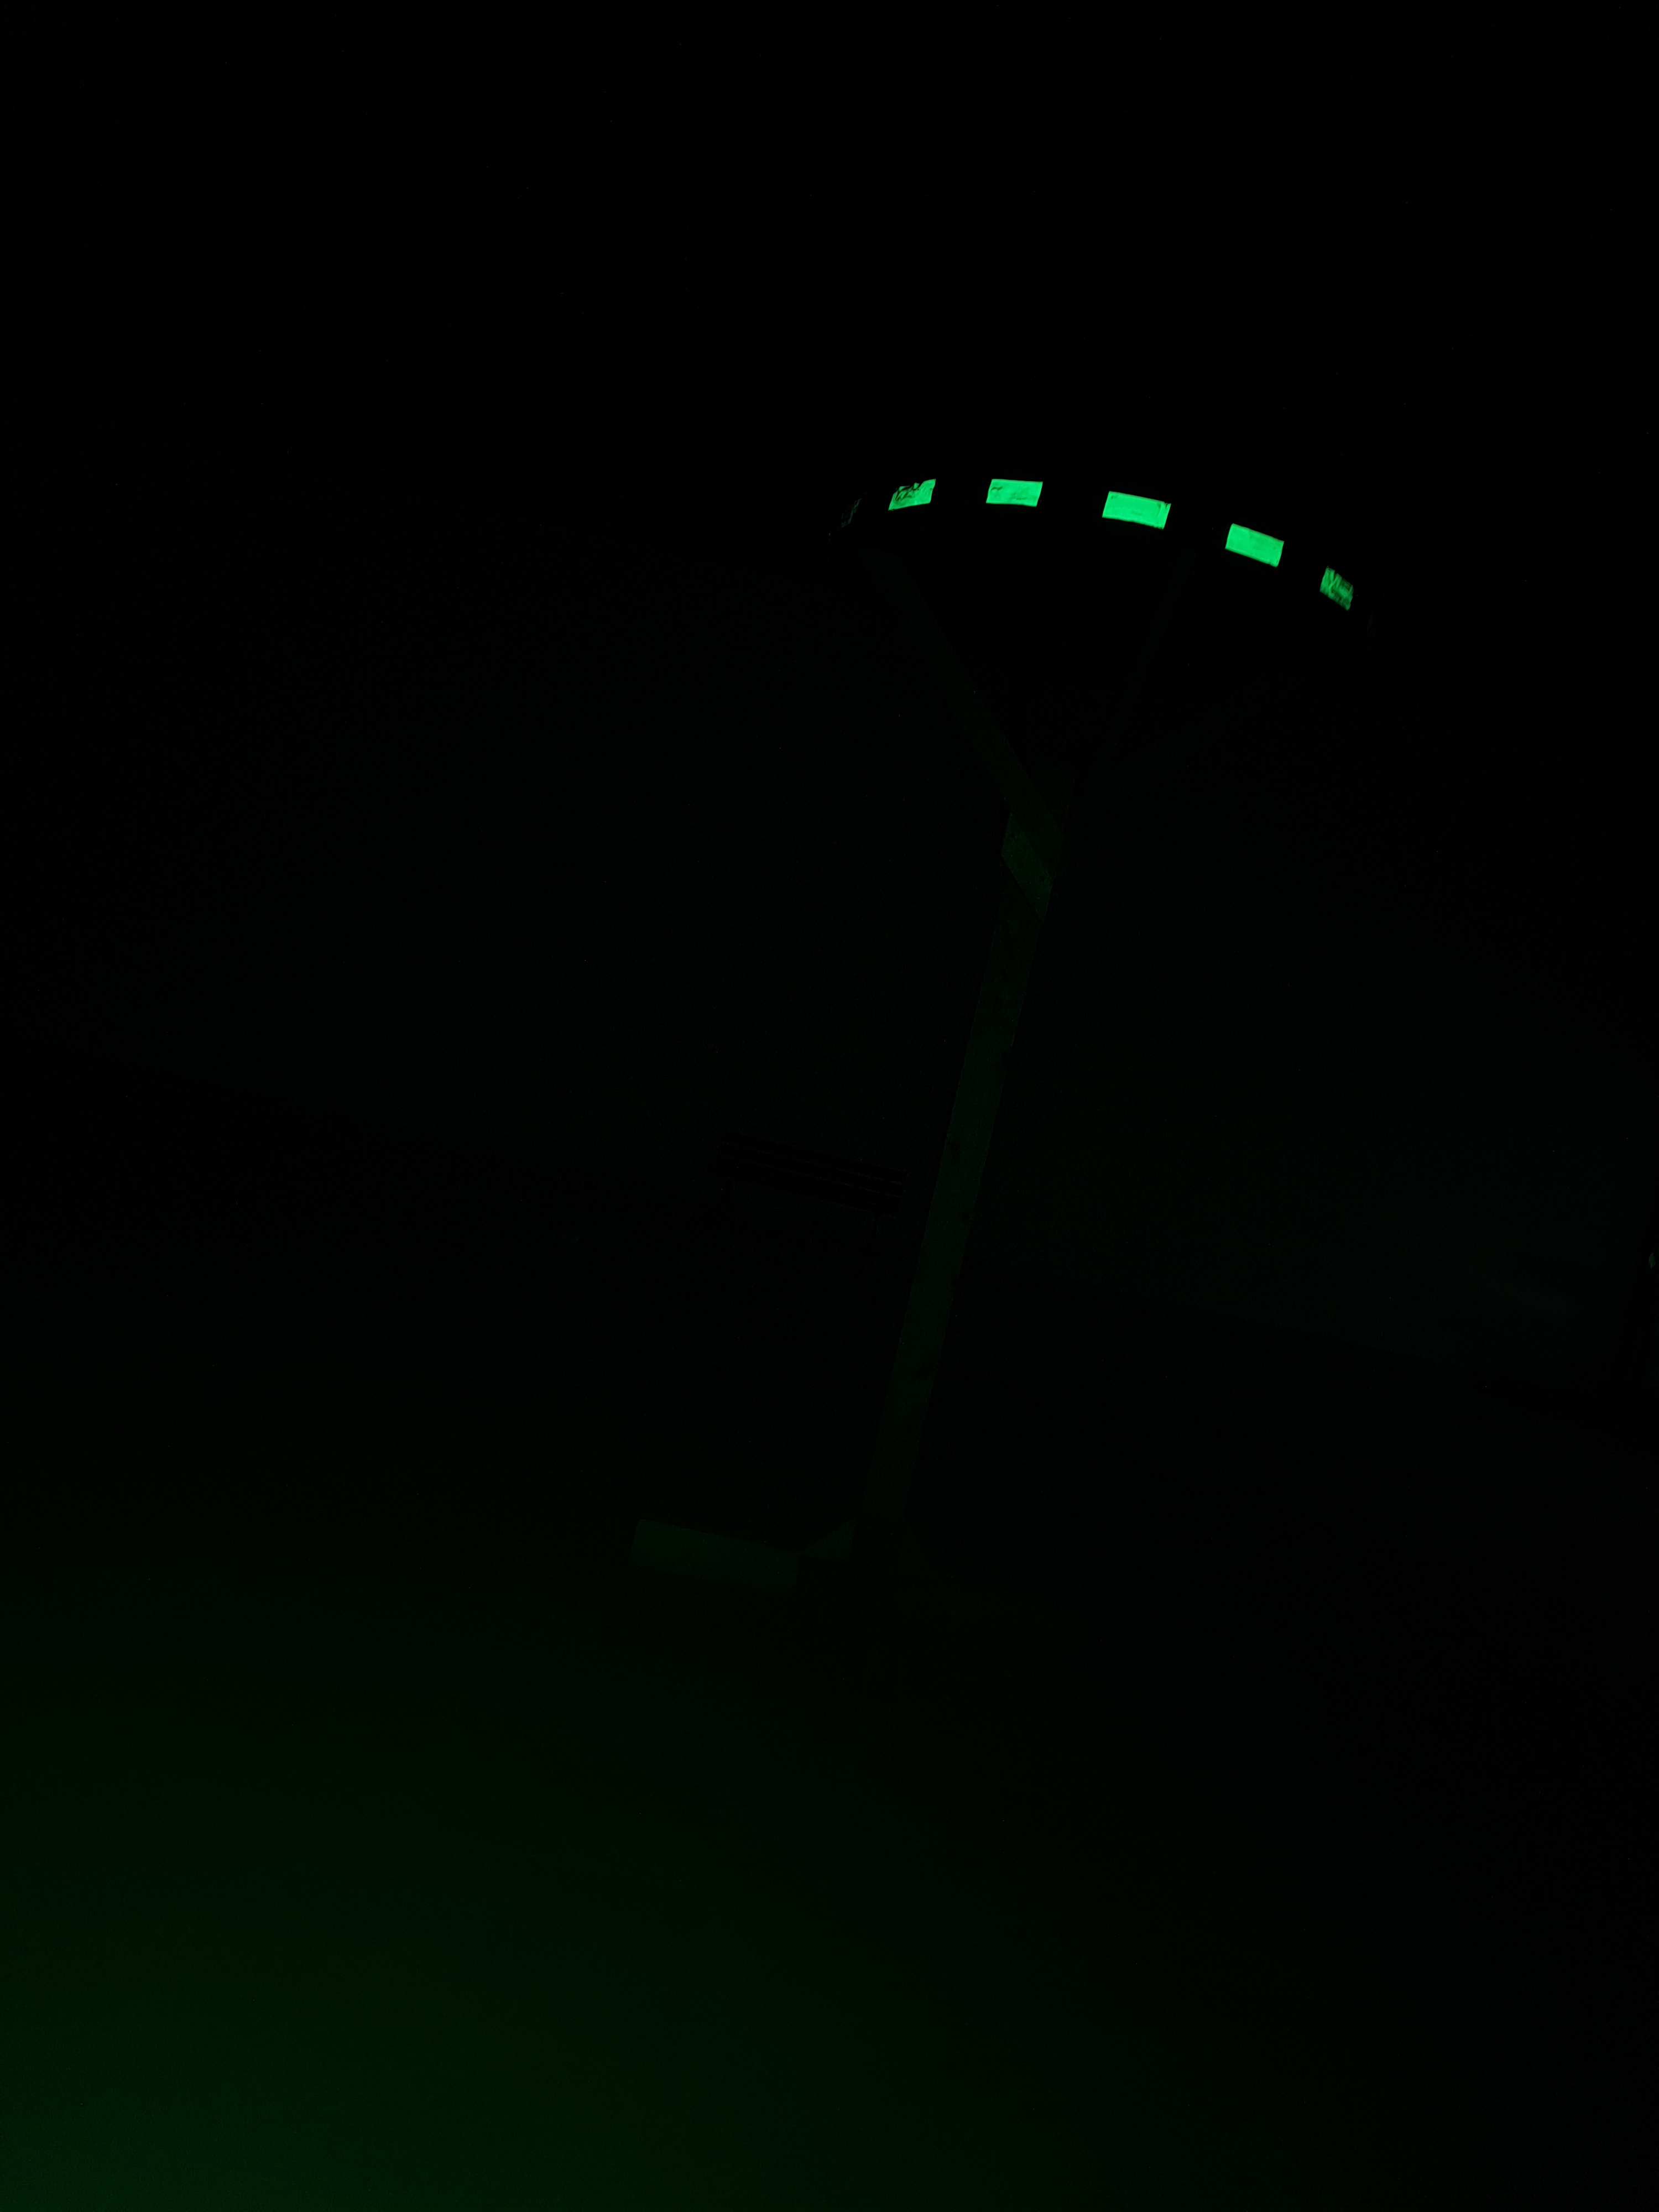hoop: (887, 475, 1354, 615)
